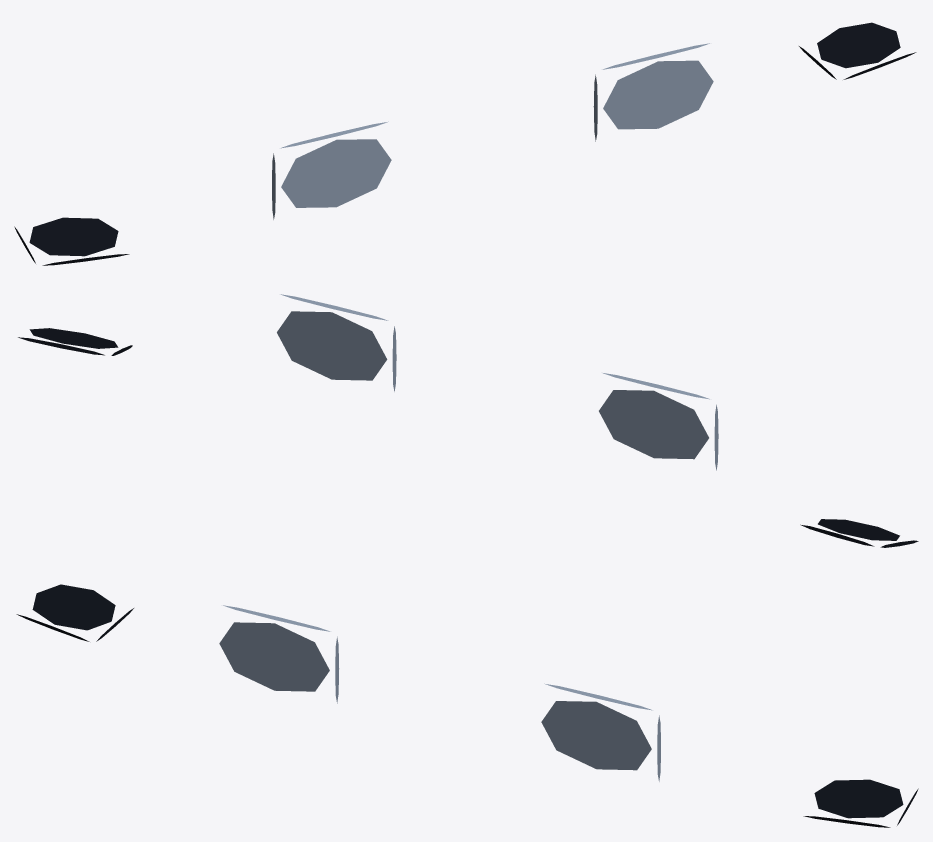
File: exhaust_thermal_aero.glb
3 views of the same model, one above another, from view 1: azimuth 30°, elevation 25°; view 2: azimuth 150°, elevation 25°; view 3: azimuth 330°, elevation 25° (orthographic).
Parts seen in each view (by area): view 1: Exhaust_Thermal_Shields_Rear_Aero_Assembly; view 2: Exhaust_Thermal_Shields_Rear_Aero_Assembly; view 3: Exhaust_Thermal_Shields_Rear_Aero_Assembly.
Boxes of the visible parts, x1=… form: Exhaust_Thermal_Shields_Rear_Aero_Assembly: x1=14, y1=22, x2=916, y2=265; Exhaust_Thermal_Shields_Rear_Aero_Assembly: x1=18, y1=294, x2=918, y2=547; Exhaust_Thermal_Shields_Rear_Aero_Assembly: x1=16, y1=584, x2=918, y2=827.
Size of the model in its own units: 1.75 by 0.1495 by 0.1769.
